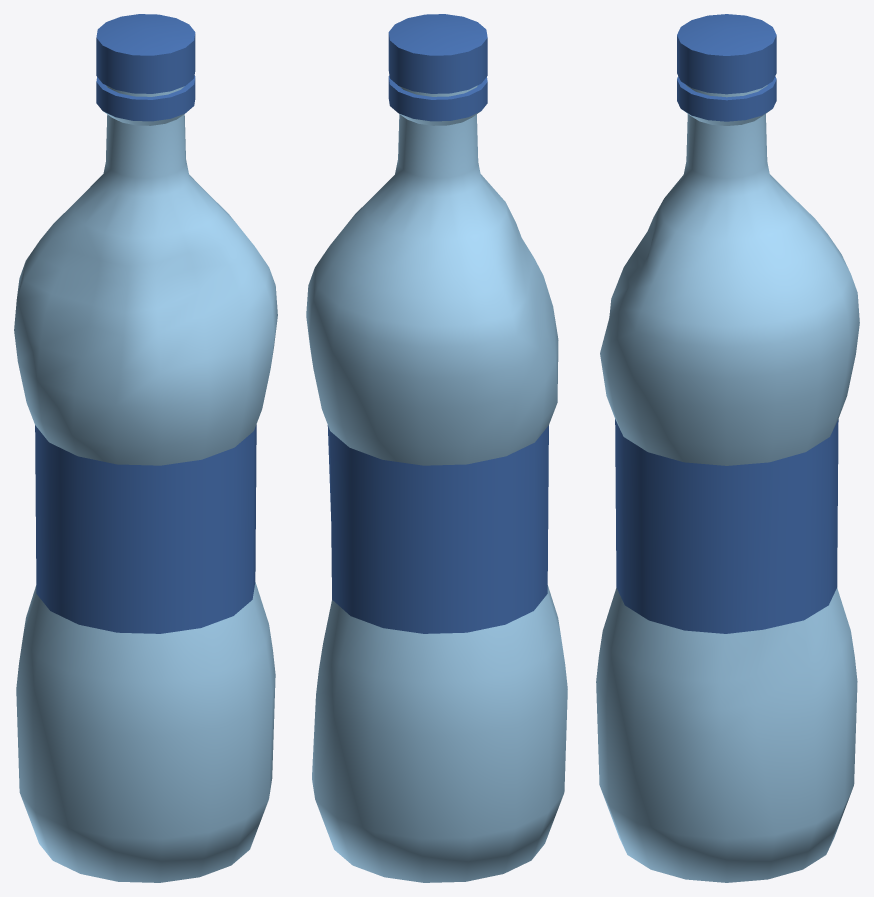
File: plastic_bottle4.fbx
3 views of the same model, side by side, from view 1: azimuth 30°, elevation 25°; view 2: azimuth 150°, elevation 25°; view 3: azimuth 270°, elevation 25° (orthographic).
Visible parts, largest first — view 1: Cylinder.001; view 2: Cylinder.001; view 3: Cylinder.001.
Boxes of the visible parts, box(x1,y1,x2,y2) form: Cylinder.001: box(14, 14, 277, 882); Cylinder.001: box(306, 14, 567, 882); Cylinder.001: box(596, 14, 859, 882).
Bounding box in the file's own units: 1.21 × 1.21 × 4.11.
